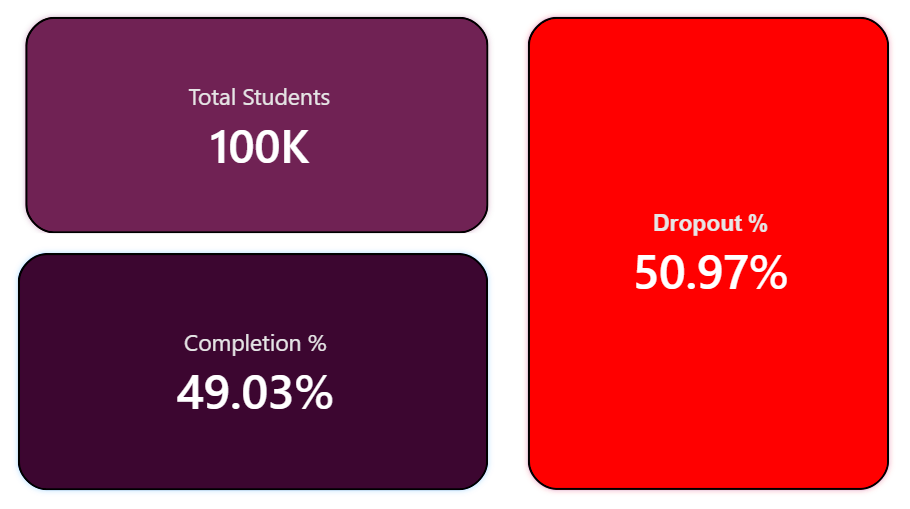

The page's visual inventory and layout, read from the dashboard file:
{"tool":"powerbi","page":{"name":"overview","canvas":[1280,720],"ordinal":0},"visuals":[{"type":"cardVisual","fields":{"Data":["final_data.Total Students"]},"box":[10,0,706.6,360.7],"z":0},{"type":"cardVisual","fields":{"Data":["final_data.Completion %"]},"box":[0,330.9,716.5,389.4],"z":1000},{"type":"cardVisual","fields":{"Data":["final_data.Dropout %"]},"box":[716.5,0,563.5,720.3],"z":2000}]}

Visuals, with their boxes in screenshot pixels (x1, y1, x2, y2), scaled from the page's 1280x720 canvas onto the 910x509 screenshot:
cardVisual - final_data.Total Students: (7, 0, 509, 255)
cardVisual - final_data.Completion %: (0, 234, 509, 508)
cardVisual - final_data.Dropout %: (509, 0, 909, 508)
